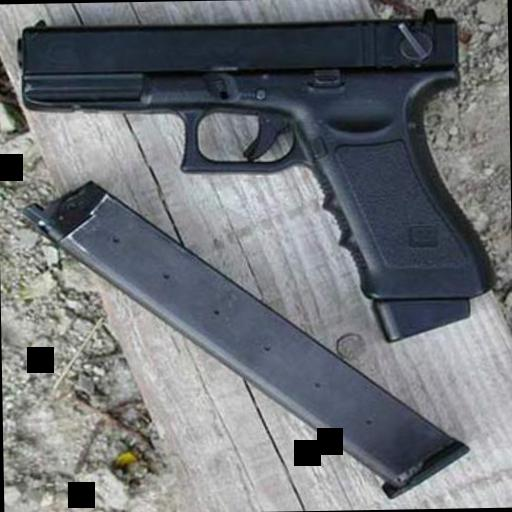Handgun: (14, 9, 490, 346)
